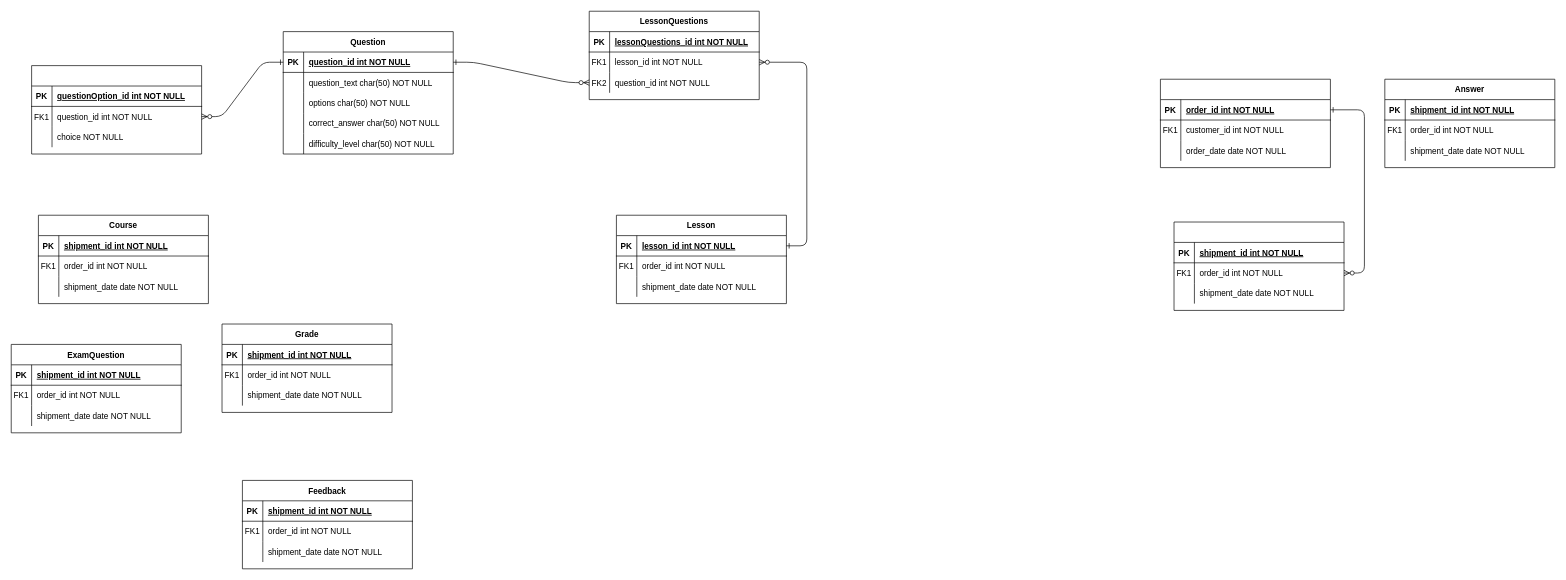
Some shapes in this 1566 by 580 pixel diagram are drawn without their labels. Here are the shapes that lost their labels. From the top down, the box of each, then its label:
(31, 65, 202, 154): QuestionOptions
(1160, 79, 1330, 168): Teacher
(1173, 221, 1344, 310): Exam
